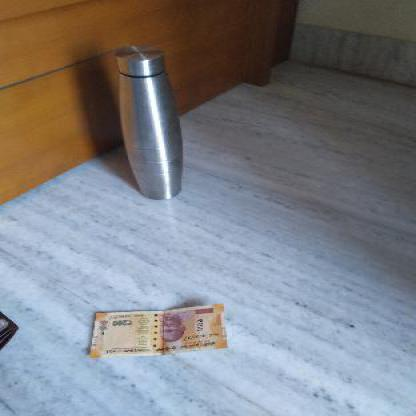New200Front: (87, 308, 229, 355)
